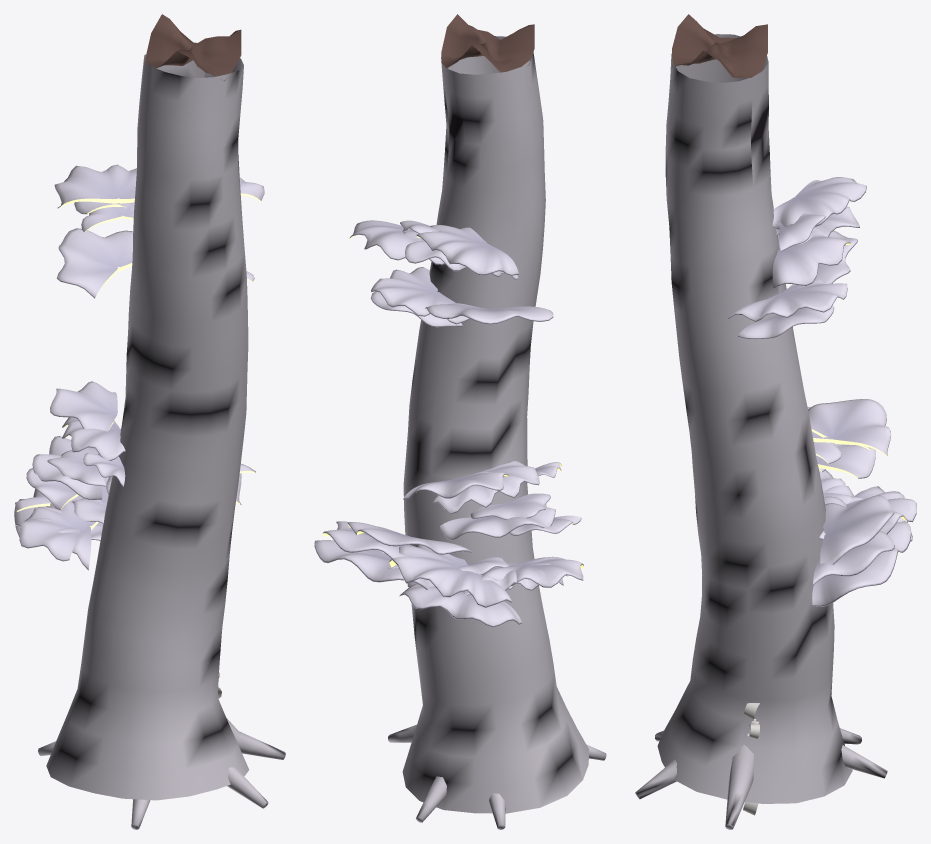
File: snag.glb
The picture shows the model from 3 angles, left to right: view 1: azimuth 30°, elevation 25°; view 2: azimuth 150°, elevation 25°; view 3: azimuth 270°, elevation 25°; orthographic projection. The views are drawn at different scales.
Visible parts, largest first — view 1: snag; view 2: snag; view 3: snag.
Boxes of the visible parts, x1=… form: snag: x1=14, y1=14, x2=285, y2=829; snag: x1=314, y1=14, x2=606, y2=829; snag: x1=635, y1=14, x2=916, y2=829.
Size of the model in its own units: 2.88 by 8.63 by 2.86.
